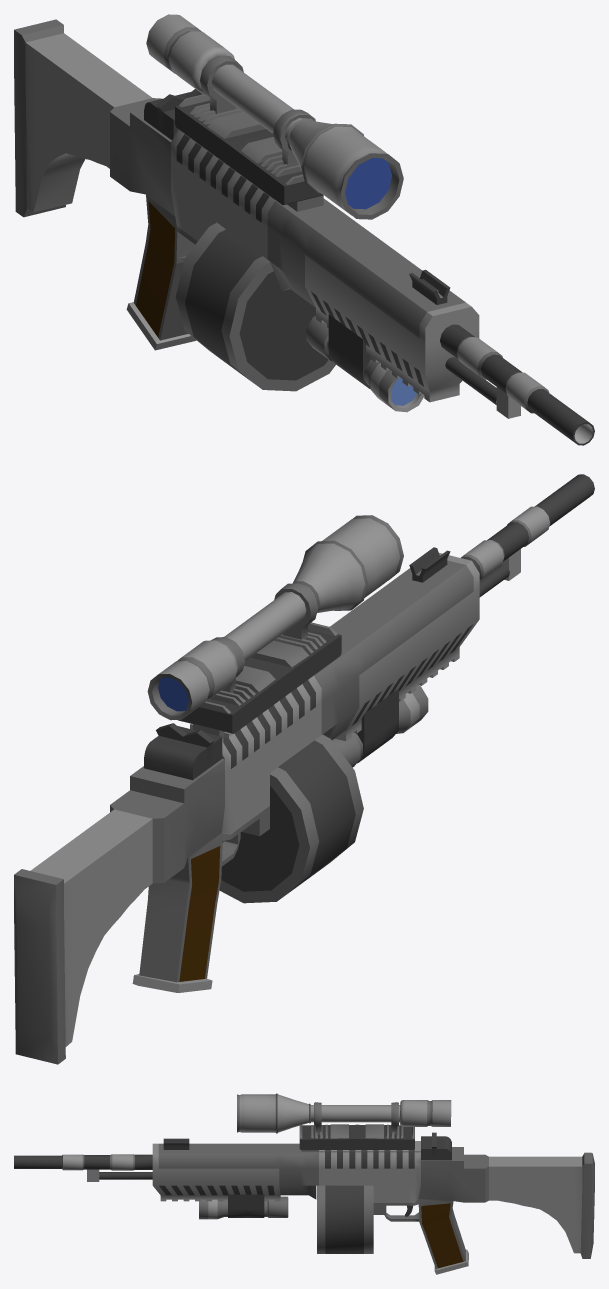
Rendered from 26-Optic-battle-rifle.glb.
3 views of the same model, one above another, from view 1: azimuth 30°, elevation 25°; view 2: azimuth 150°, elevation 25°; view 3: azimuth 270°, elevation 25° (orthographic). The views are drawn at different scales.
Parts seen in each view (by area): view 1: Optic battle rifle; view 2: Optic battle rifle; view 3: Optic battle rifle.
Part boxes in pixels (x1=…): Optic battle rifle: x1=14, y1=14, x2=594, y2=445; Optic battle rifle: x1=14, y1=474, x2=594, y2=1064; Optic battle rifle: x1=14, y1=1093, x2=594, y2=1274.
Bounding box in the file's own units: 0.1536 × 0.3645 × 1.1.
Materials: 1 (1 with a texture image).
